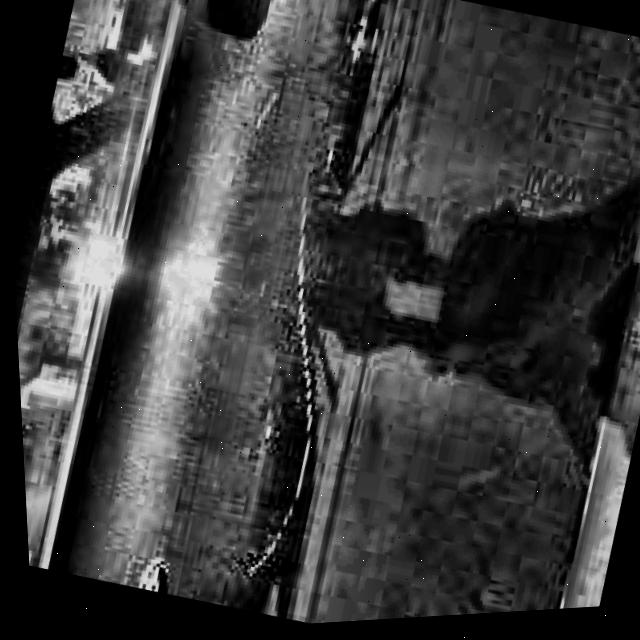door_scratch: (182, 173, 397, 595)
